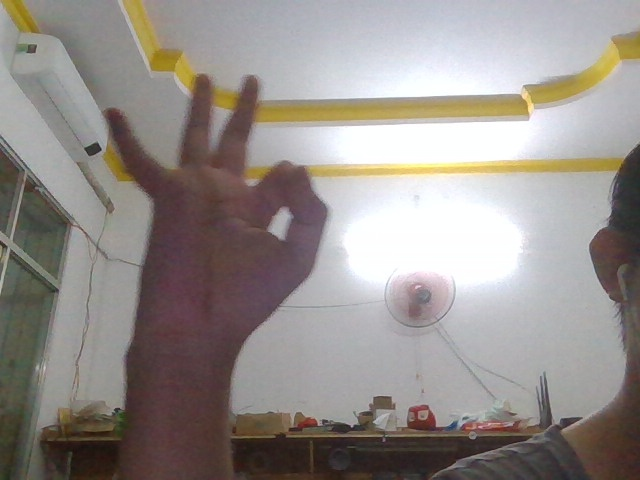okay: (92, 55, 336, 373)
